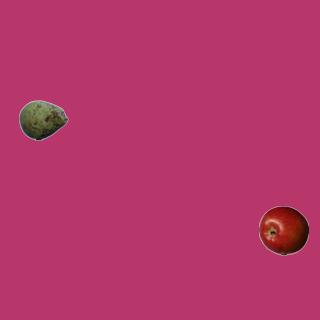Apple Braeburn: (258, 205, 308, 255)
Pear Stone: (18, 95, 68, 145)
